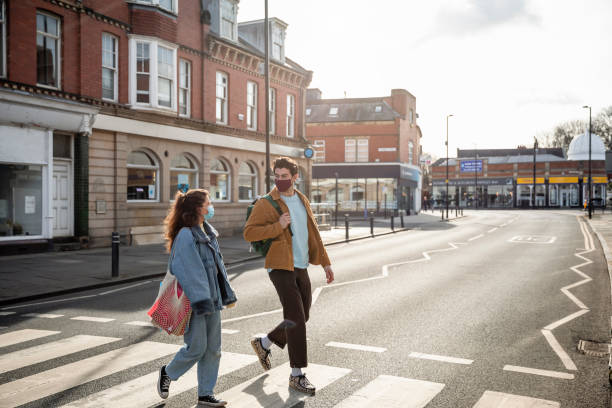otobus: (314, 140, 447, 223)
yaya: (141, 180, 258, 395), (234, 146, 338, 382)
